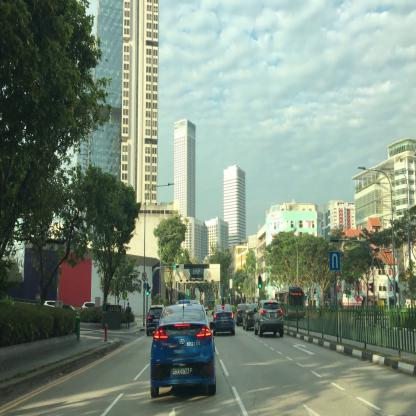green_traffic_light: (146, 282, 149, 296), (258, 276, 261, 288), (174, 264, 179, 268)
